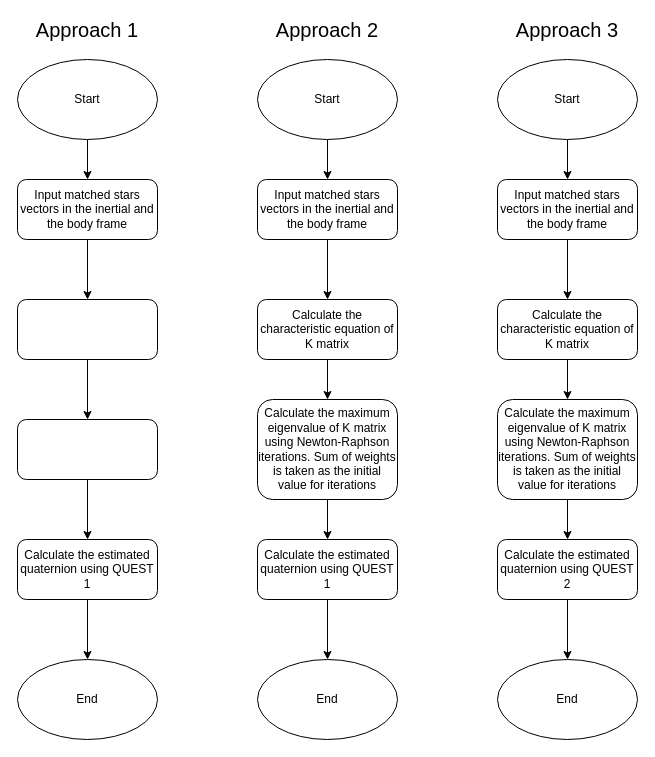
This 655x757 diagram has some shape labels left out. The centre of each missing label's shape, as x and y in pixels:
"Calculate the K matrix" goes at (87,329).
"Calculate the maximum eigenvalue of K matrix using eig() MATLAB function" goes at (87,449).
